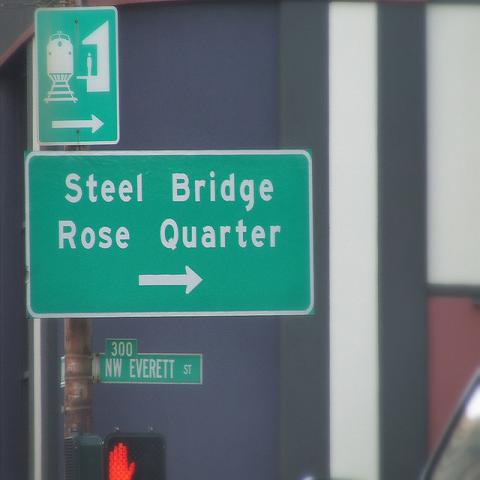car: (420, 369, 480, 479)
